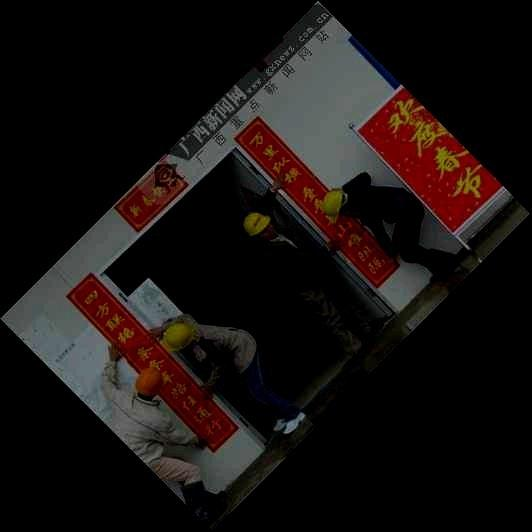helmet: (134, 366, 163, 400), (162, 322, 194, 352), (243, 213, 274, 240), (322, 189, 349, 217)
